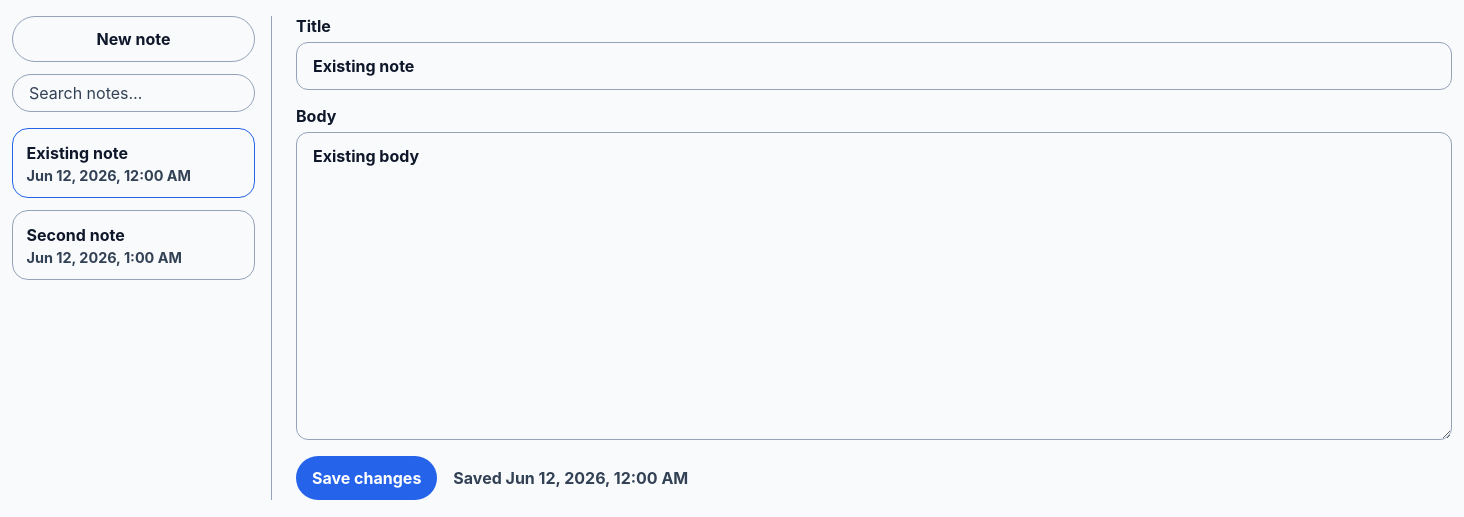
Scenario: NoteEditor › search › displays search results in note list
This screenshot has width=1464, height=517.
In the search field named "Search notes by title or body": x=134, y=93 x1=12 y1=74 x2=255 y2=112, type "match"
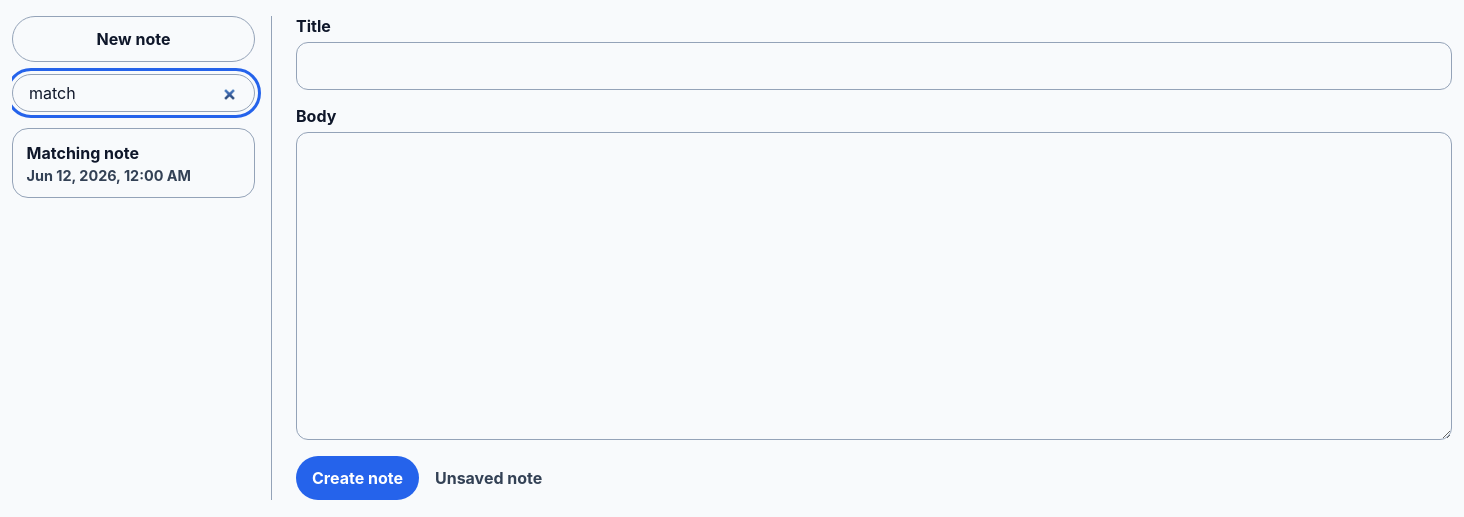
Expected: the text "Matching note" is shown, x1=27 y1=143 x2=139 y2=163
Expected: the button "Existing note" is gone
